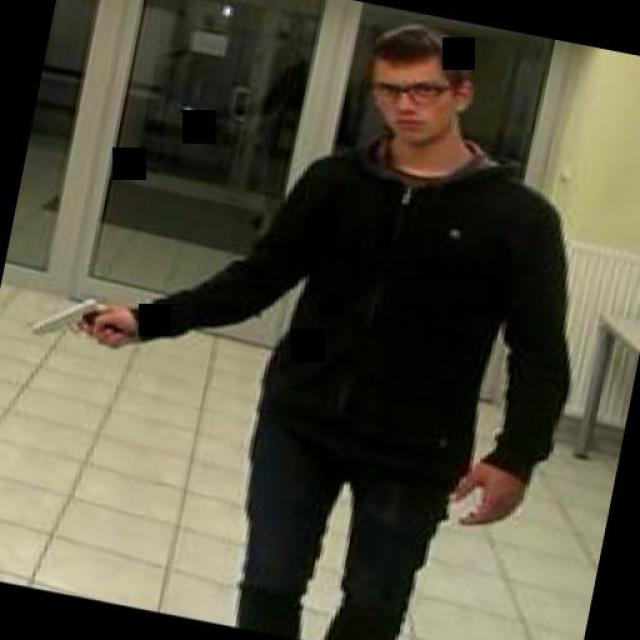gun: (22, 282, 120, 348)
